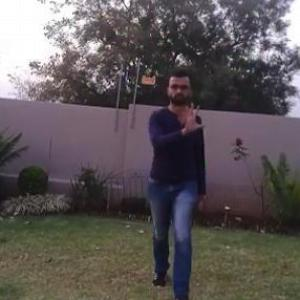follow_hand: (177, 100, 209, 136)
